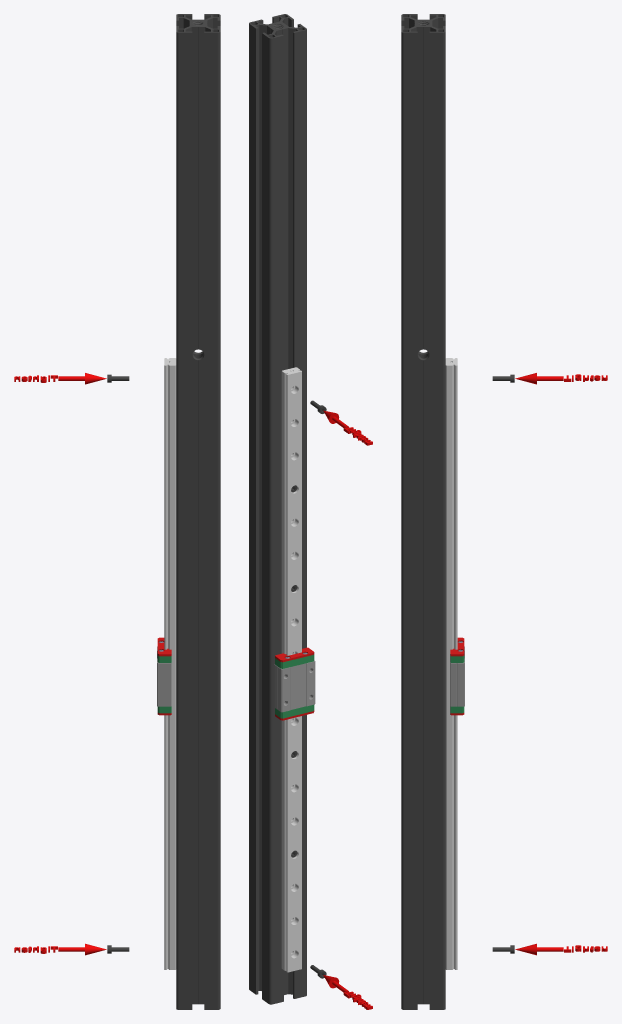
3 views of the same model, side by side, from view 1: azimuth 90°, elevation 25°; view 2: azimuth 210°, elevation 25°; view 3: azimuth 270°, elevation 25° (orthographic).
Parts seen in each view (by area): view 1: 01_05__XP__Alu_3030_Pillar_Back__V2.0 v25, MGNR12R450HM_FILE_2 v1, MGN12H, LINEAR GUIDE BLOCK v1; view 2: 01_05__XP__Alu_3030_Pillar_Back__V2.0 v25, MGNR12R450HM_FILE_2 v1, MGN12H, LINEAR GUIDE BLOCK v1; view 3: 01_05__XP__Alu_3030_Pillar_Back__V2.0 v25, MGNR12R450HM_FILE_2 v1, MGN12H, LINEAR GUIDE BLOCK v1.
Boxes of the visible parts, x1,y1,x2,y2 form: 01_05__XP__Alu_3030_Pillar_Back__V2.0 v25: (176,14,220,1009); MGNR12R450HM_FILE_2 v1: (164,358,176,969); MGN12H, LINEAR GUIDE BLOCK v1: (157,646,171,706); 01_05__XP__Alu_3030_Pillar_Back__V2.0 v25: (249,14,306,1004); MGNR12R450HM_FILE_2 v1: (281,367,301,972); MGN12H, LINEAR GUIDE BLOCK v1: (274,660,315,712); 01_05__XP__Alu_3030_Pillar_Back__V2.0 v25: (401,14,445,1009); MGNR12R450HM_FILE_2 v1: (445,358,457,969); MGN12H, LINEAR GUIDE BLOCK v1: (450,646,464,706).
Size of the model in its own units: 0.03 by 0.7275 by 0.1392.
